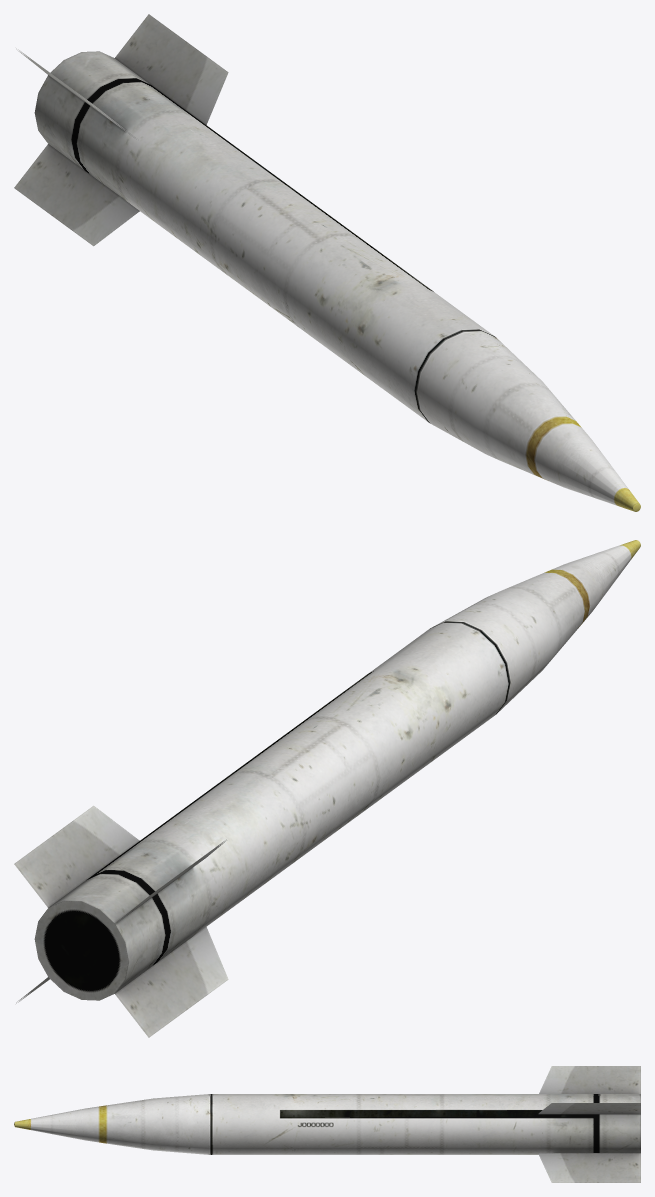
File: daod.glb
3 views of the same model, one above another, from view 1: azimuth 30°, elevation 25°; view 2: azimuth 150°, elevation 25°; view 3: azimuth 270°, elevation 25° (orthographic). The views are drawn at different scales.
Visible parts, largest first — view 1: DF15地地导弹; view 2: DF15地地导弹; view 3: DF15地地导弹.
Boxes of the visible parts, <box> form: DF15地地导弹: <box>14,14,640,511</box>; DF15地地导弹: <box>14,540,640,1037</box>; DF15地地导弹: <box>14,1066,640,1182</box>.
Size of the model in its own units: 1.54 by 1.54 by 10.94.
1 material, 1 textured.
